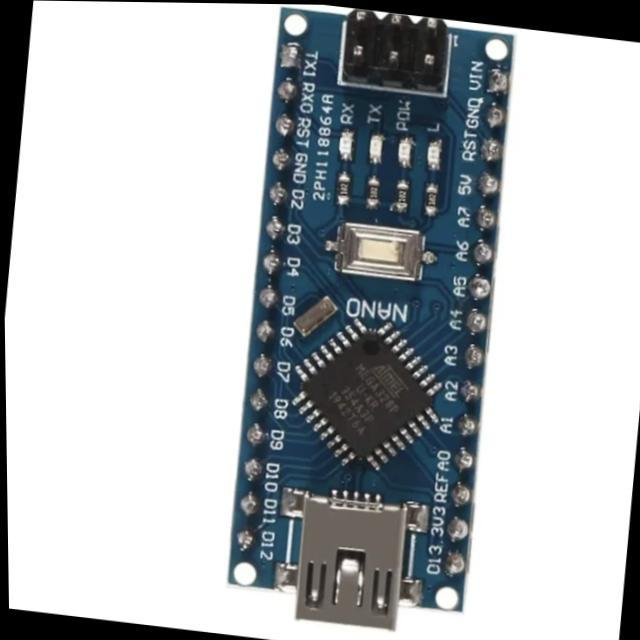Arduino-Nano: (230, 9, 513, 630)
